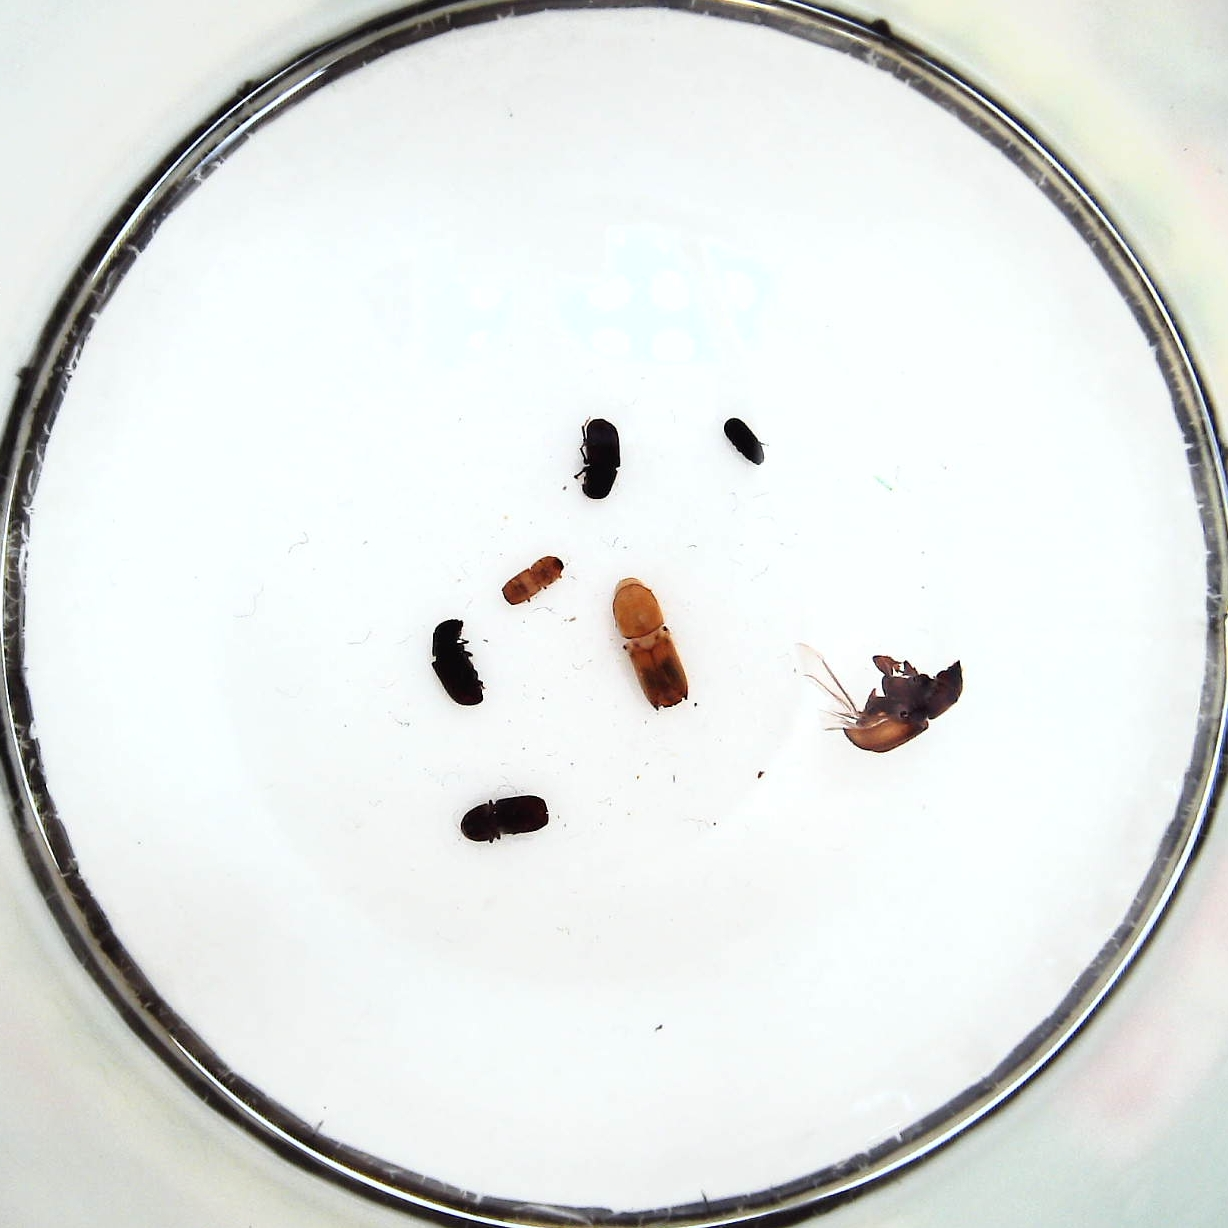Boerner: (611, 571, 693, 712)
Leconte: (819, 652, 970, 752)
Linnaeus: (455, 791, 553, 845)
acuminatus: (499, 550, 565, 606)
armandi: (427, 615, 489, 708), (574, 415, 624, 502)
coleoptera: (721, 412, 768, 466)
